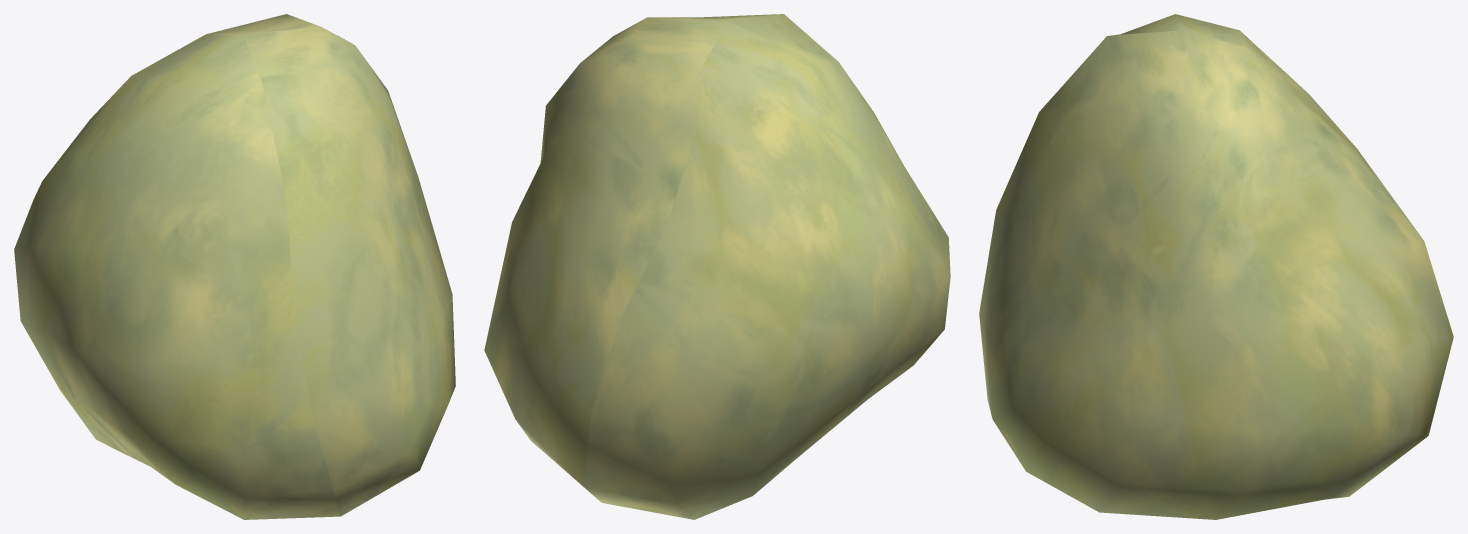
The model's file is m_bush_02.fbx.
3 renders of one model, left to right at view 1: azimuth 30°, elevation 25°; view 2: azimuth 150°, elevation 25°; view 3: azimuth 270°, elevation 25°, orthographic. The views are drawn at different scales.
Parts seen in each view (by area): view 1: m_bush_02; view 2: m_bush_02; view 3: m_bush_02.
Boxes of the visible parts, x1,y1,x2,y2 form: m_bush_02: (14,14,455,519); m_bush_02: (484,14,950,519); m_bush_02: (979,14,1453,519).
Bounding box in the file's own units: 310 × 343 × 328.
